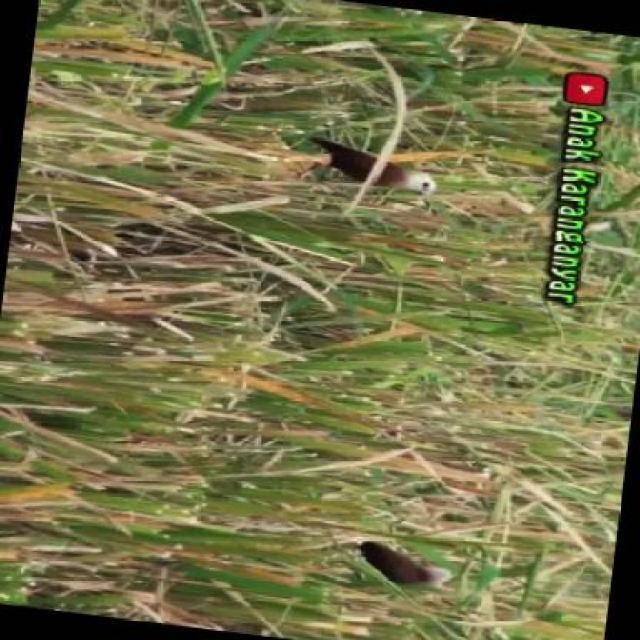Bird: (337, 522, 457, 605), (311, 126, 433, 205)
